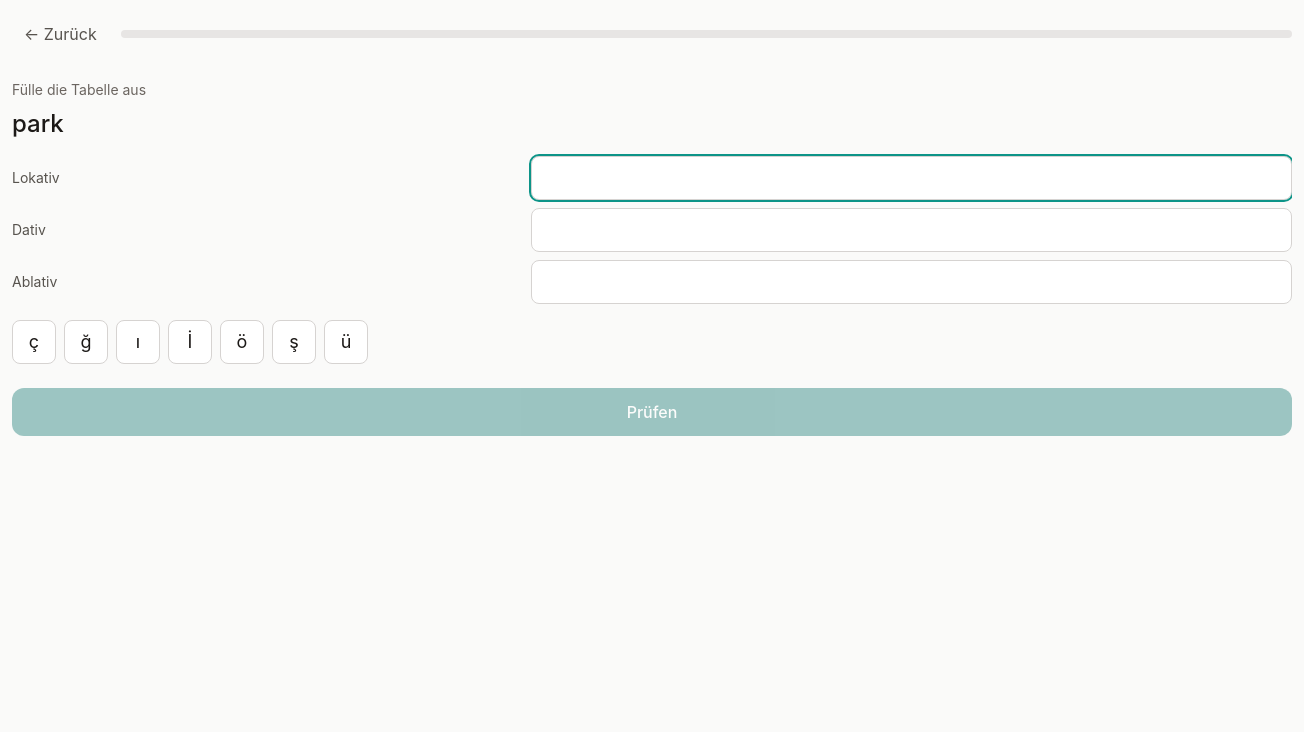
LessonRunner › Tabelle: markiert falsche Zellen und begründet nur diese
This screenshot has width=1304, height=732.
Type "parkda" into the field labelled "Lokativ" at (912, 178), box [531,156,1292,200]
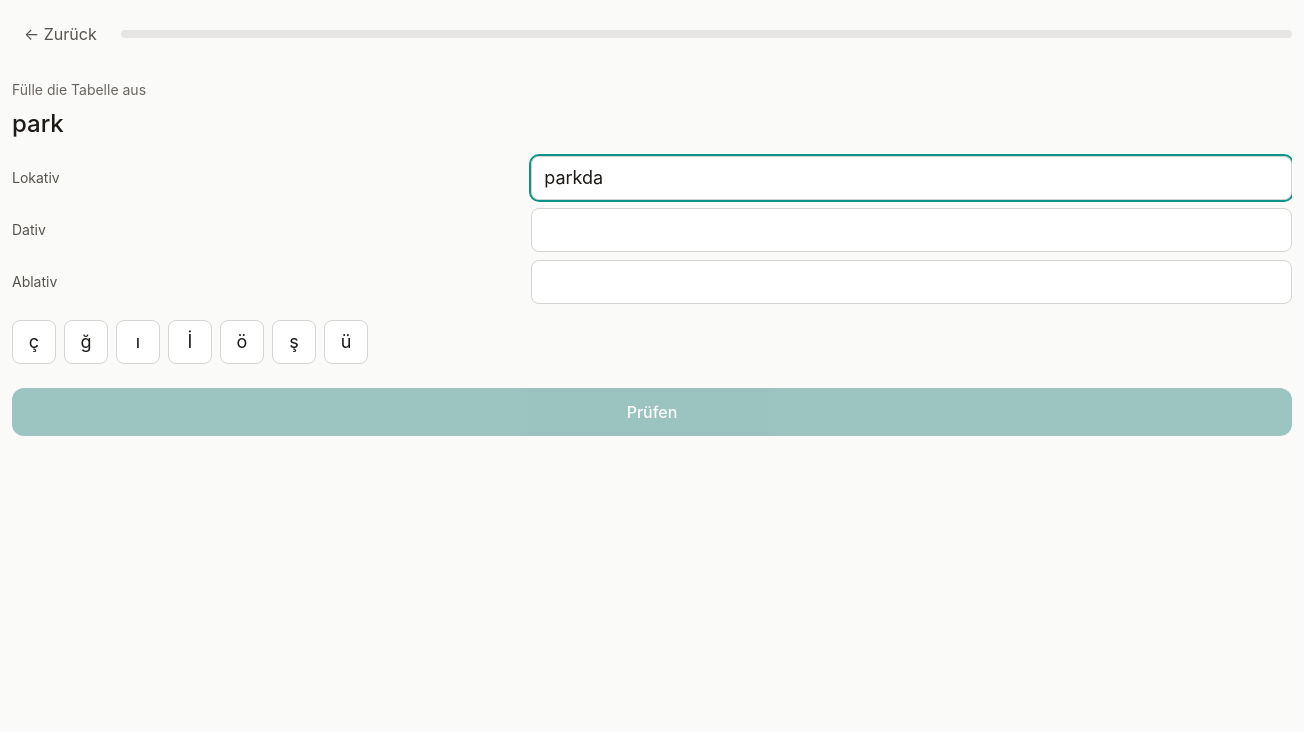
Type "parka" into the field labelled "Dativ" at (912, 230), box [531,208,1292,252]
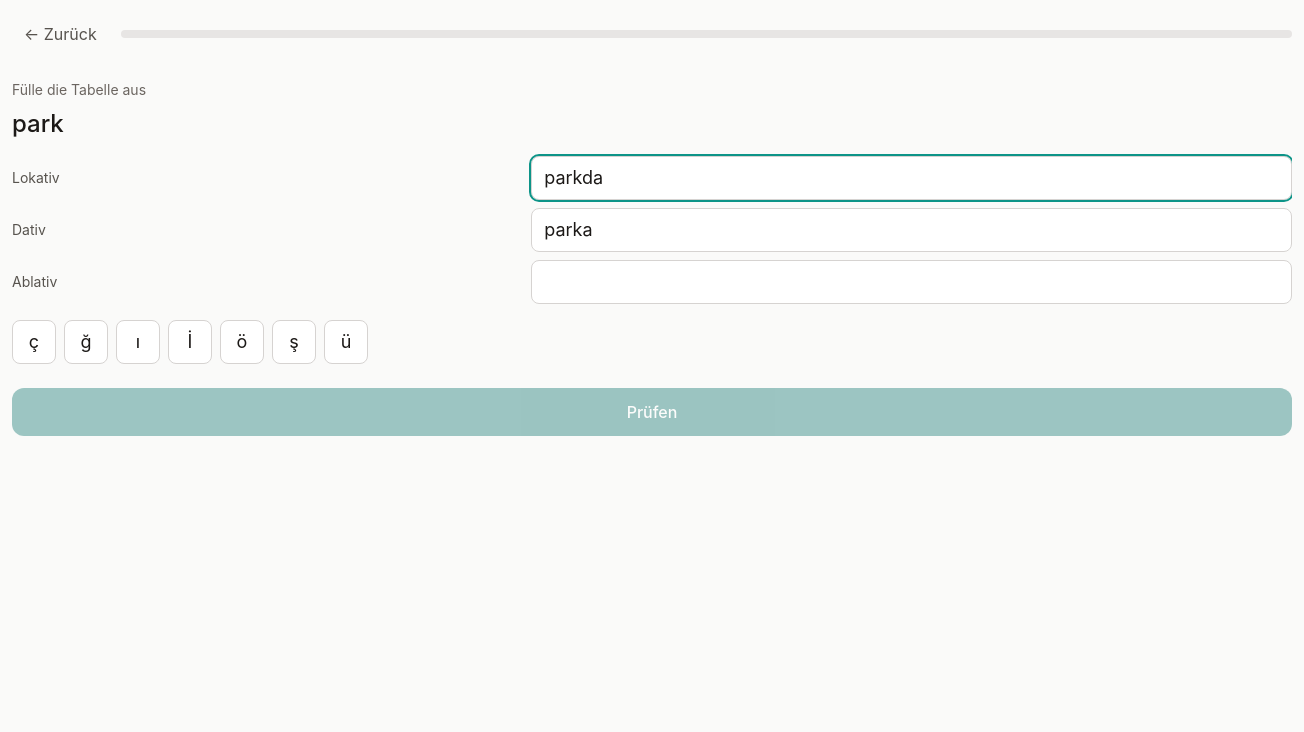
Expected: the button "Prüfen" is disabled, [12,388,1292,436]
Type "parktan" into the field labelled "Ablativ" at (912, 282), box [531,260,1292,304]
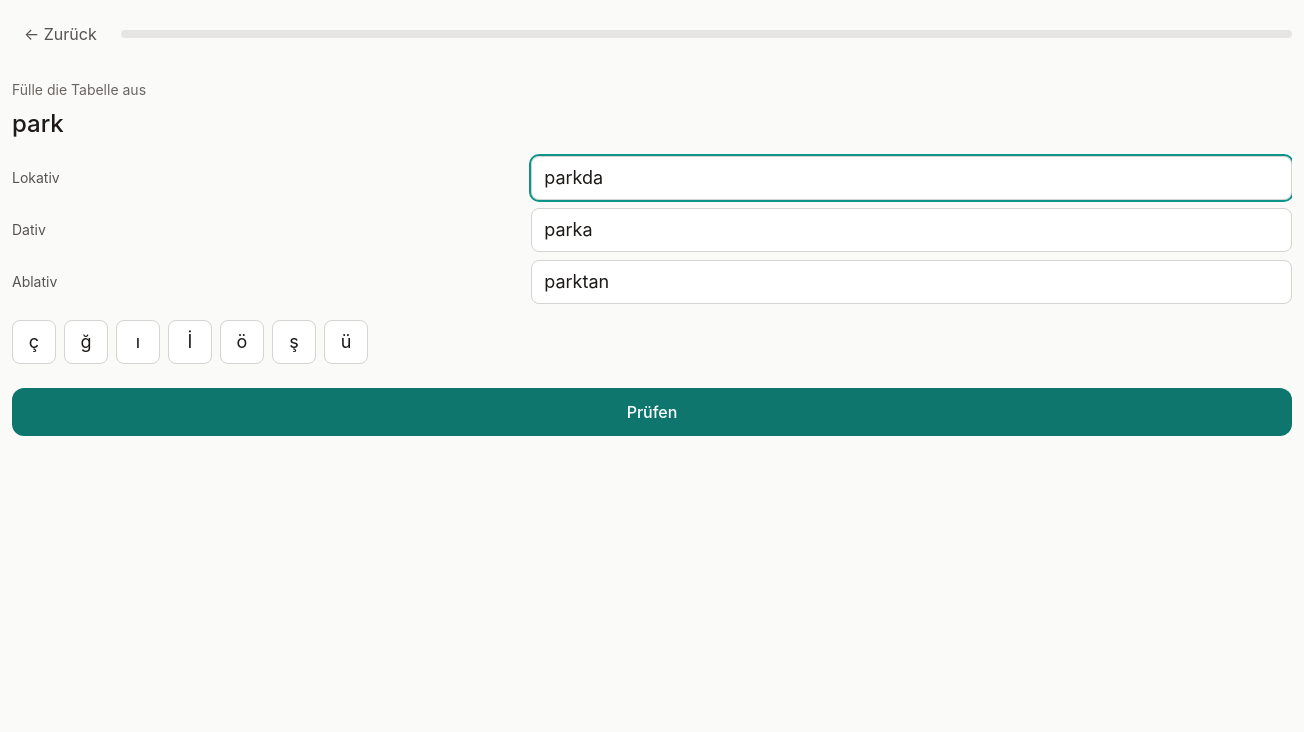
Click the button "Prüfen" at (652, 412), box [12,388,1292,436]
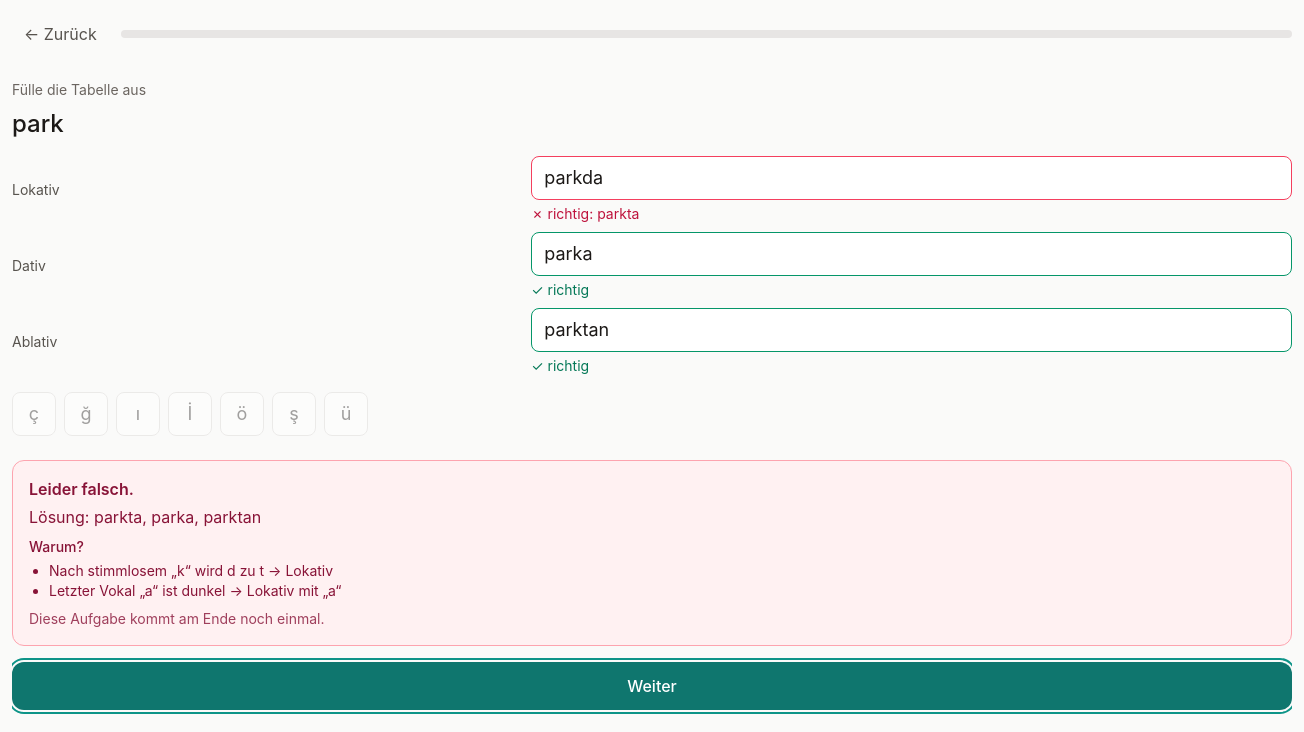
Result: the message shows "Leider falsch." at [29,479,134,499]
Result: the message shows "Lokativ" at [49,562,333,579]
Result: the text "✗ richtig: parkta" is shown at [531,205,639,222]
